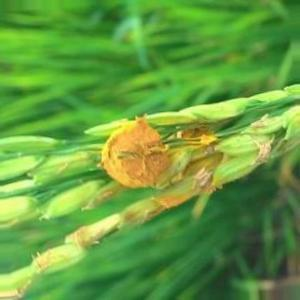Leaf_Scald: (107, 127, 169, 189)
